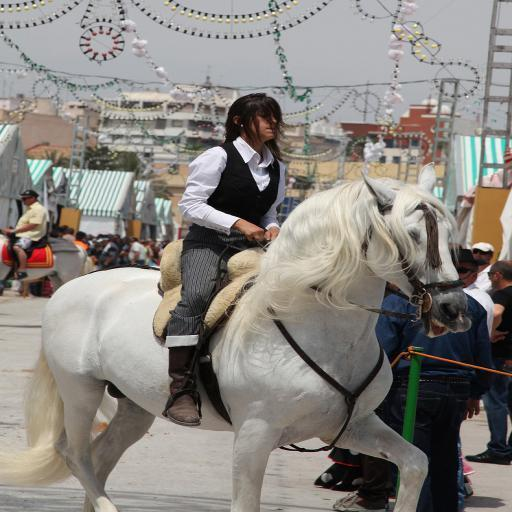horse: (0, 161, 475, 512), (0, 235, 94, 295)
